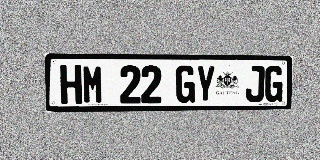2: (120, 65, 140, 104), (141, 65, 161, 103)
G: (175, 65, 195, 103), (264, 66, 284, 102)
H: (60, 65, 82, 104)
J: (245, 66, 265, 102)
M: (82, 65, 104, 104)
Y: (196, 65, 215, 103)
